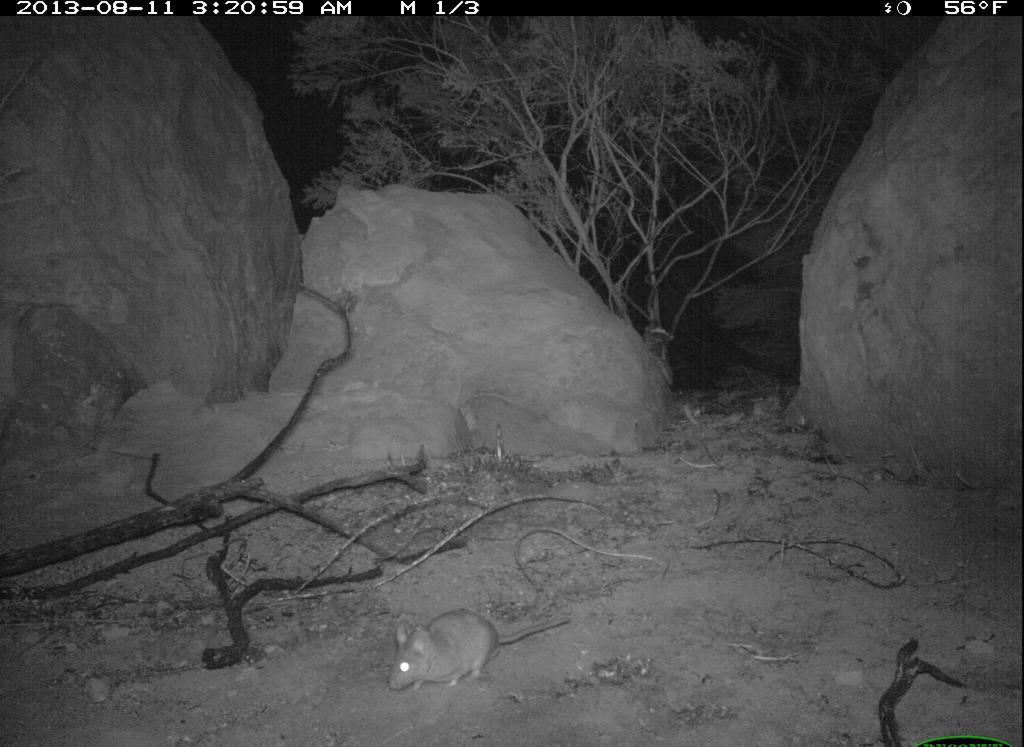rodent: (373, 596, 580, 700)
